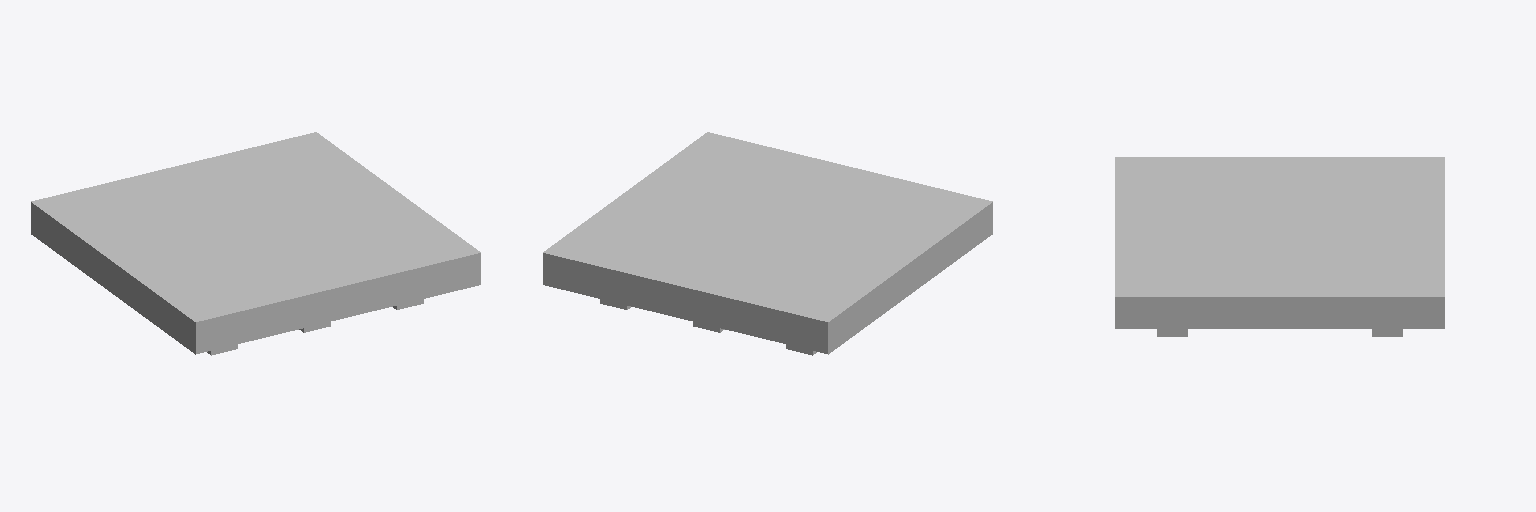
Rendered from lightBase.obj.
3 renders of one model, left to right at view 1: azimuth 30°, elevation 25°; view 2: azimuth 150°, elevation 25°; view 3: azimuth 270°, elevation 25°, orthographic.
Size of the model in its own units: 0.6169 by 0.1189 by 0.6169.